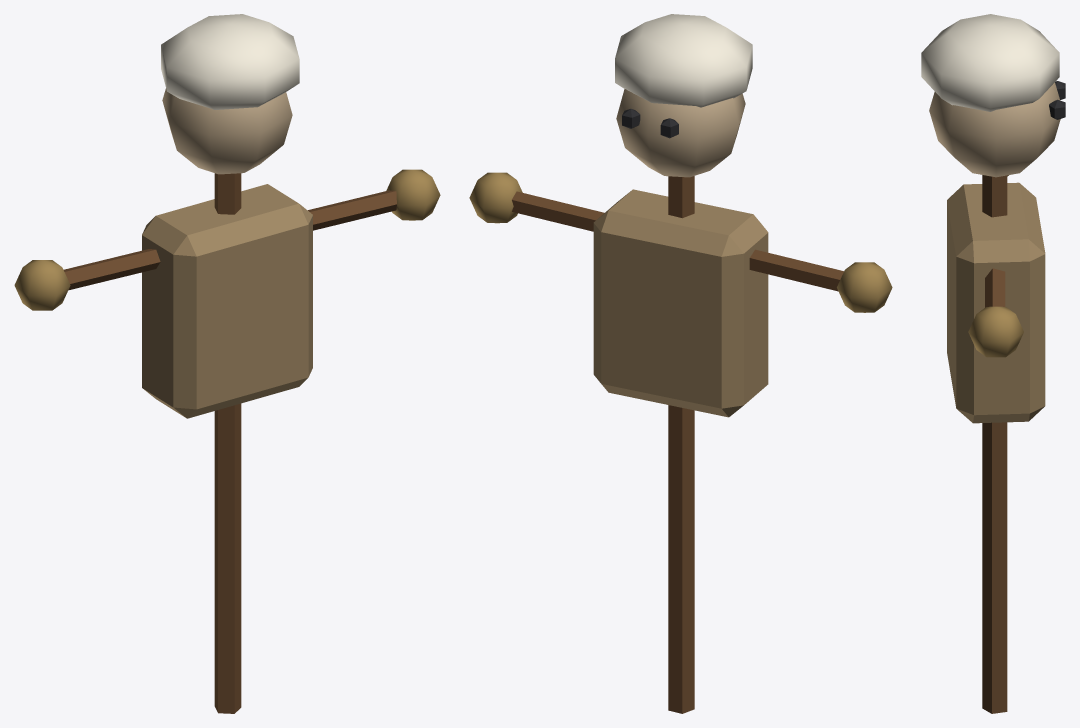
File: scarecrow.fbx
3 views of the same model, side by side, from view 1: azimuth 30°, elevation 25°; view 2: azimuth 150°, elevation 25°; view 3: azimuth 270°, elevation 25° (orthographic).
Parts seen in each view (by area): view 1: Prop; view 2: Prop; view 3: Prop.
Part boxes in pixels (x1,y1,x2,y2): Prop: (14, 14, 440, 713); Prop: (469, 14, 892, 713); Prop: (921, 14, 1065, 713).
Bounding box in the file's own units: 0.8466 × 0.2576 × 1.35.
